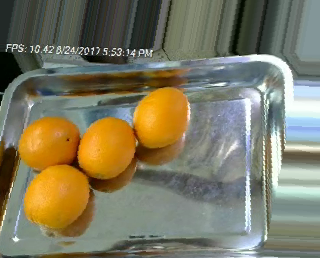Orange: (24, 164, 91, 229), (78, 116, 137, 178), (131, 85, 190, 147), (18, 117, 81, 170)
